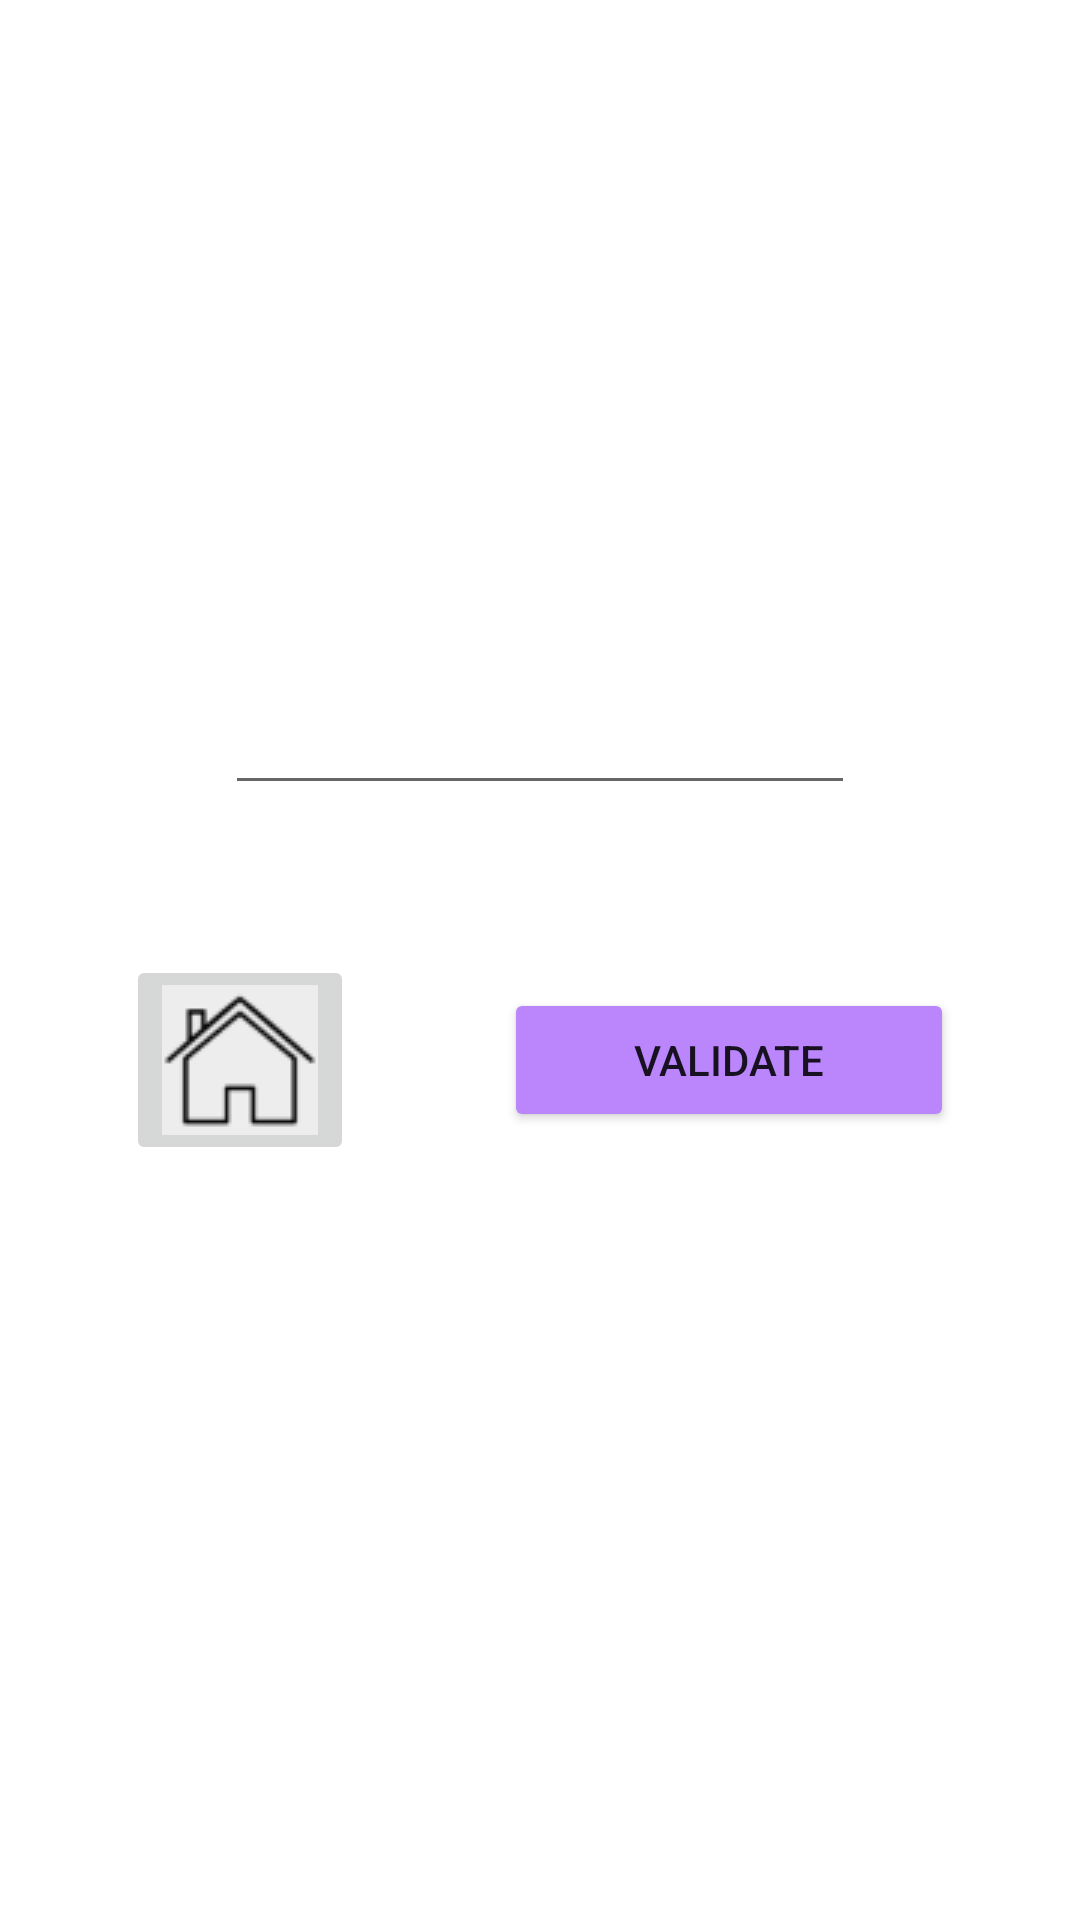

Named icons in this screenshot (1080x1920) and their bounding boxes, (x1, y1, x2, y2):
house: (138, 973, 342, 1147)
